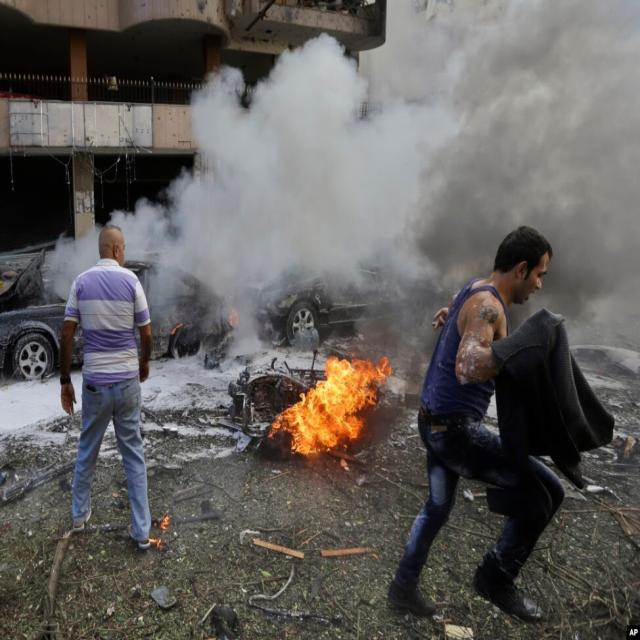fire: (279, 357, 387, 463)
smoke: (209, 69, 596, 269)
